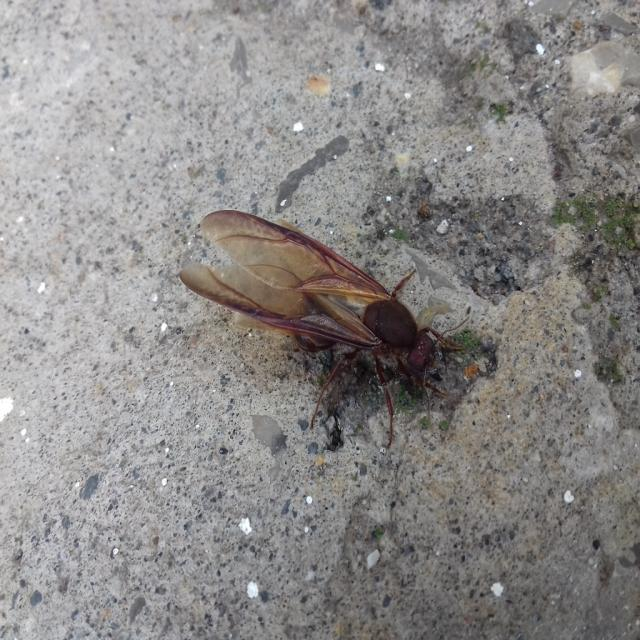Alive-Female-Alate: (178, 208, 470, 448)
